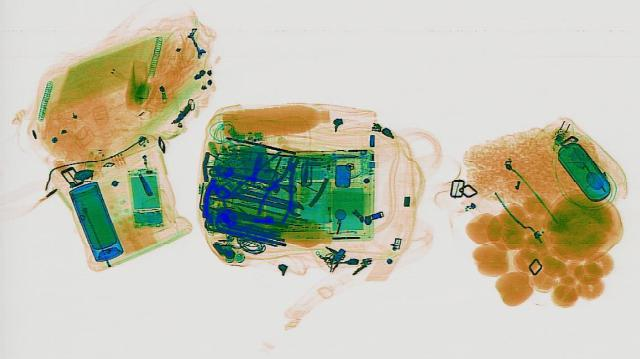Pliers: (250, 154, 310, 223), (262, 155, 294, 190)
